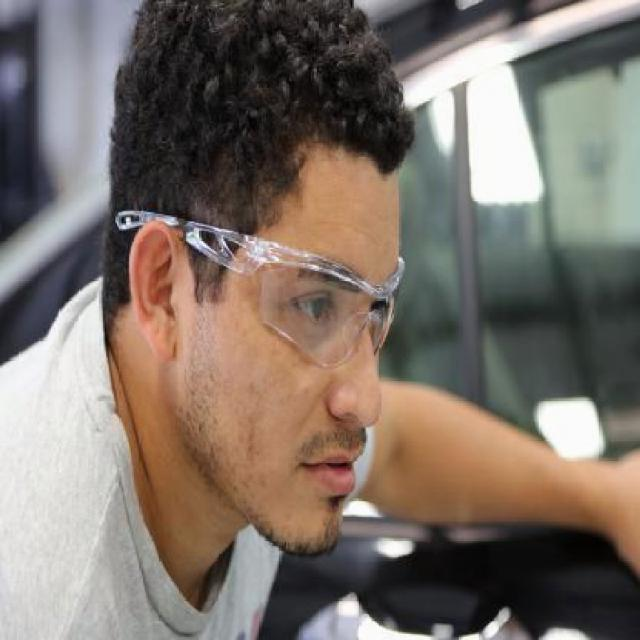face_mask: (114, 203, 411, 368)
face_nomask: (267, 253, 408, 495)
head_nohelmet: (111, 0, 420, 206)
